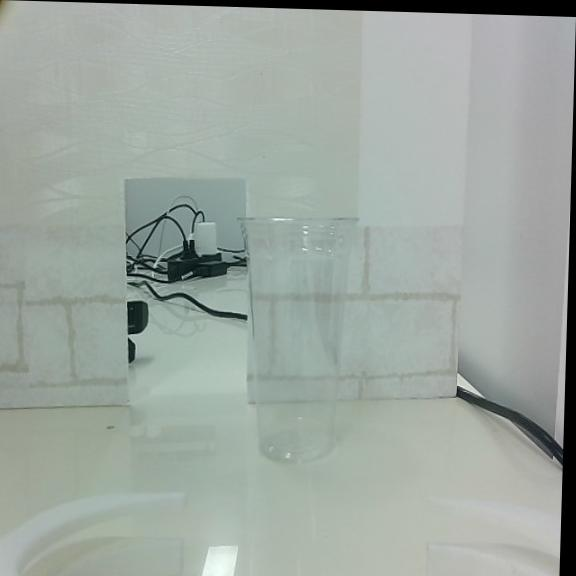Plastik: (242, 218, 356, 461)
